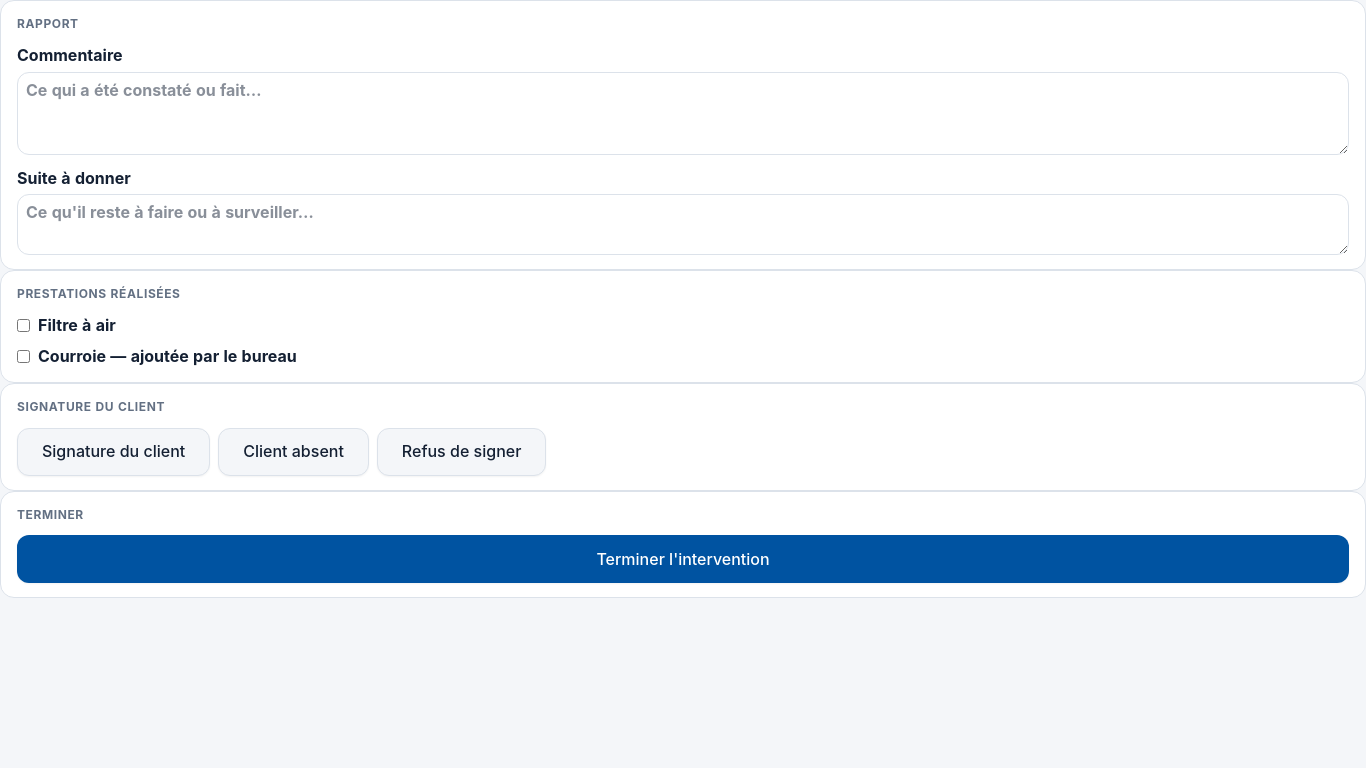
le bouton Terminer, hors connexion › sans signature saisie, affiche le motif de signature manquante et n'appelle jamais la route
Click the button "Terminer l'intervention".
click(683, 559)  # box left=17, top=535, right=1349, bottom=583
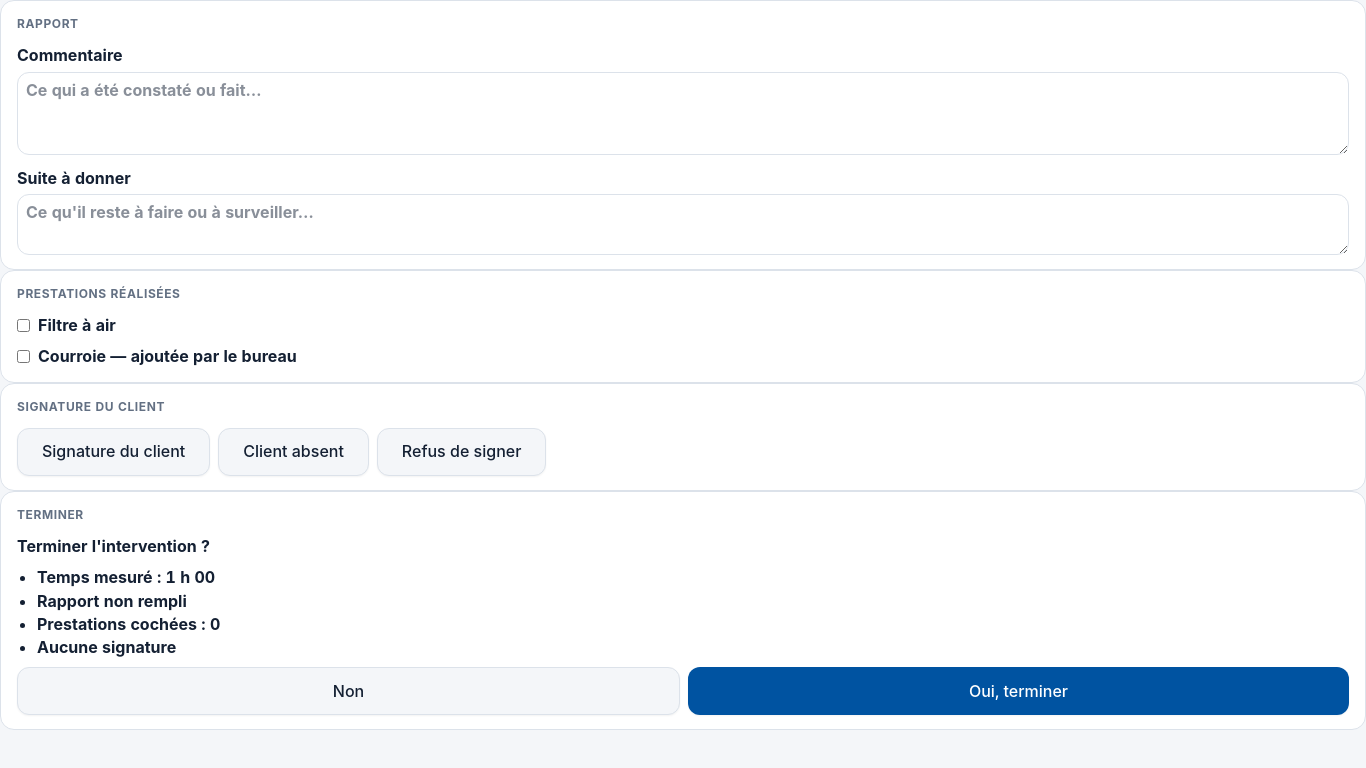
Click the button "Oui, terminer".
click(1018, 691)  # box left=688, top=667, right=1349, bottom=715
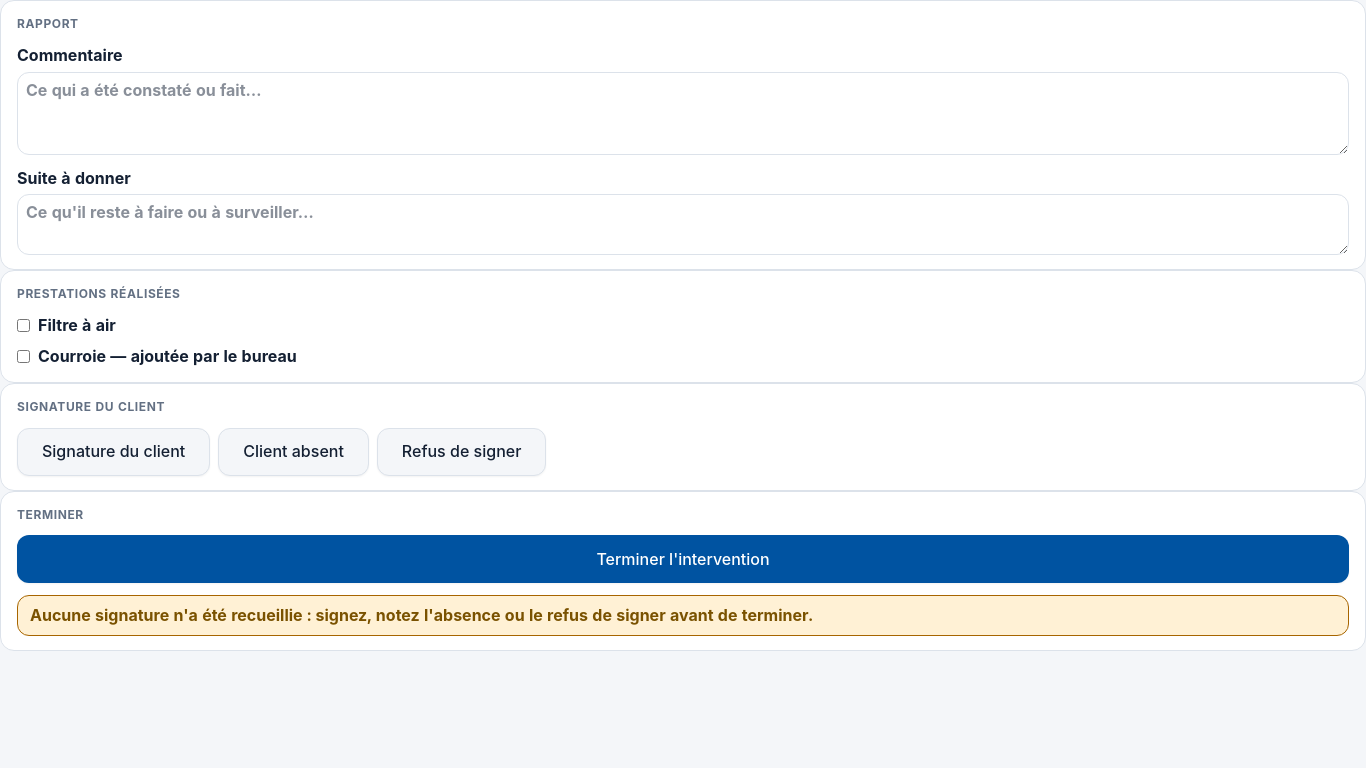
Expected: the text "Aucune signature n'a été recueillie : signez, notez l'absence ou le refus de signer avant de terminer." is shown, left=30, top=605, right=813, bottom=625
